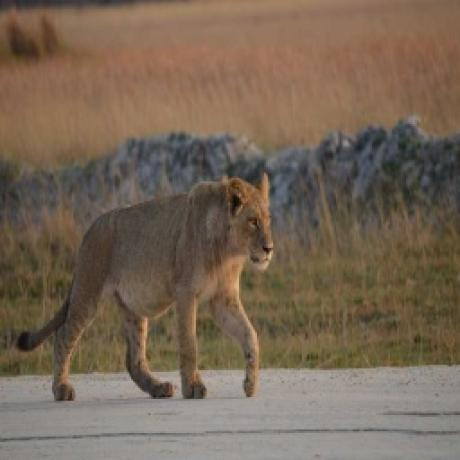Lion: (13, 167, 280, 400)
